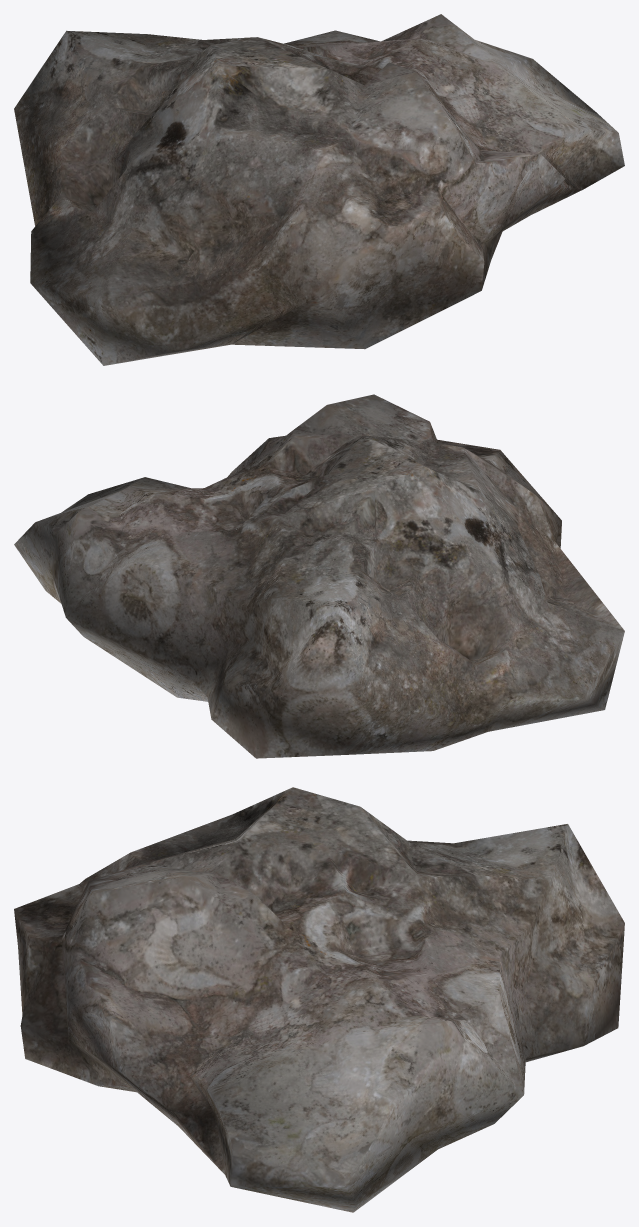
Rendered from coral_stone_wfbmej3r_low.glb.
3 views of the same model, one above another, from view 1: azimuth 30°, elevation 25°; view 2: azimuth 150°, elevation 25°; view 3: azimuth 270°, elevation 25° (orthographic). The views are drawn at different scales.
Parts seen in each view (by area): view 1: wfbmej3r_LOD0_TIER3_000; view 2: wfbmej3r_LOD0_TIER3_000; view 3: wfbmej3r_LOD0_TIER3_000.
Part boxes in pixels (bbox=[...]): wfbmej3r_LOD0_TIER3_000: bbox=[14, 14, 624, 365]; wfbmej3r_LOD0_TIER3_000: bbox=[14, 394, 624, 758]; wfbmej3r_LOD0_TIER3_000: bbox=[14, 787, 624, 1212].
Size of the model in its own units: 0.117 by 0.0463 by 0.096.
1 material, 1 textured.
